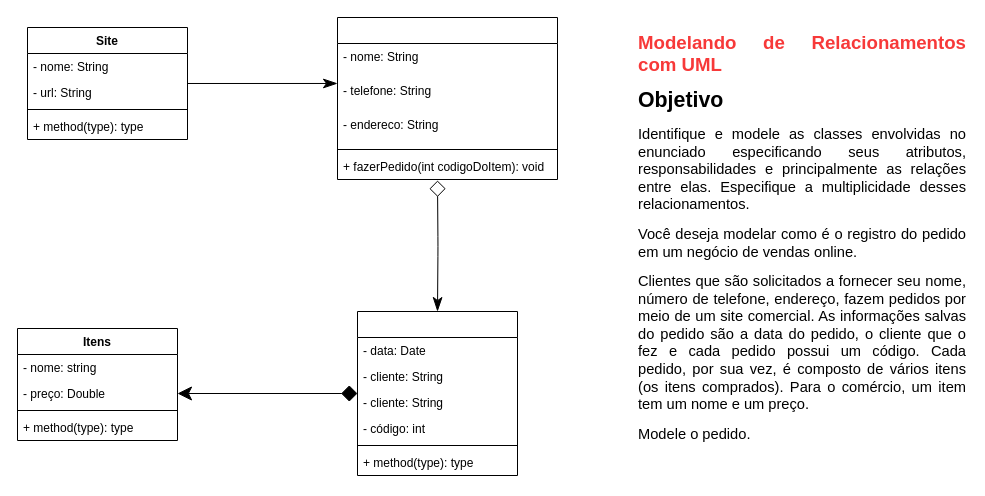
Some shapes in this 985 by 496 pixel diagram are drawn without their labels. The box of each missing label's shape, as (x1, y1, x2, y2) in pixels:
Clientes: (336, 16, 558, 180)
Pedidos: (356, 310, 518, 476)
